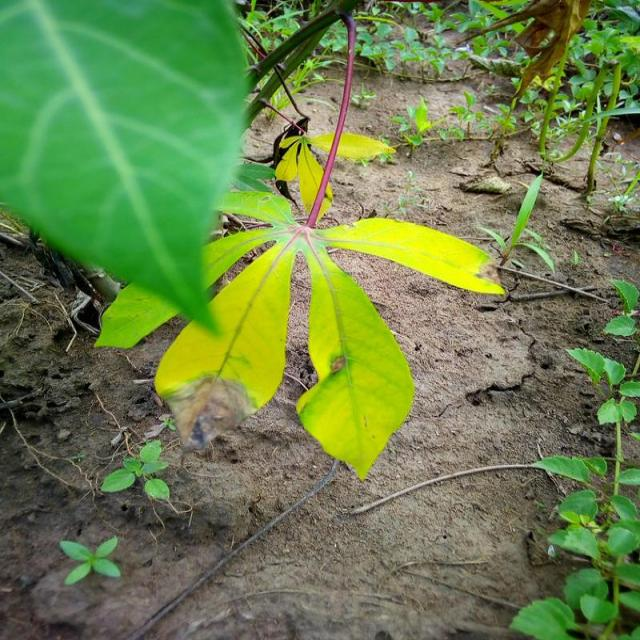cassava leaf: (0, 0, 251, 348), (153, 235, 297, 451), (295, 240, 415, 481)
